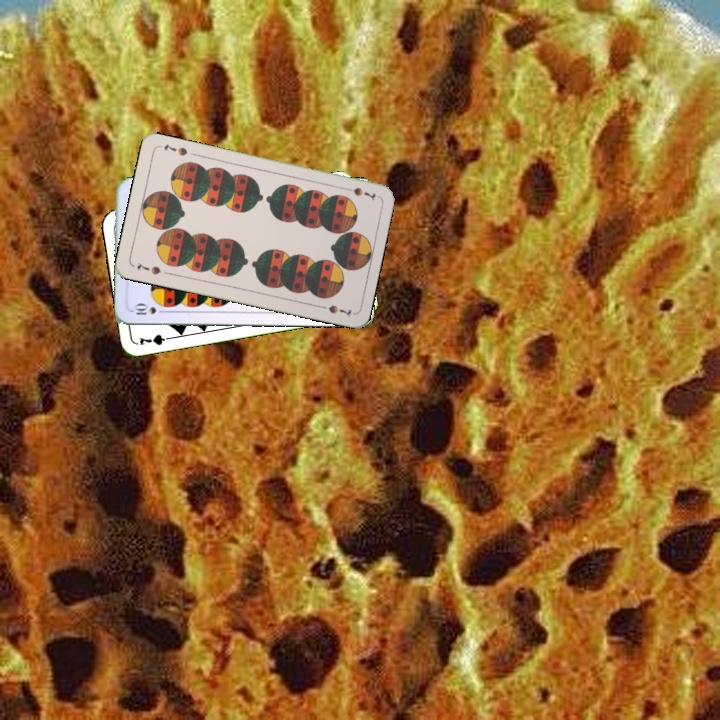G7: (135, 330, 176, 348)
S10: (130, 301, 169, 317)
S7: (340, 183, 378, 203), (133, 258, 163, 277)
